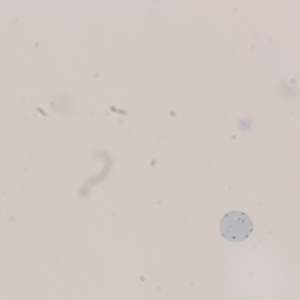aggregate reticulocyte: (217, 209, 255, 245)
